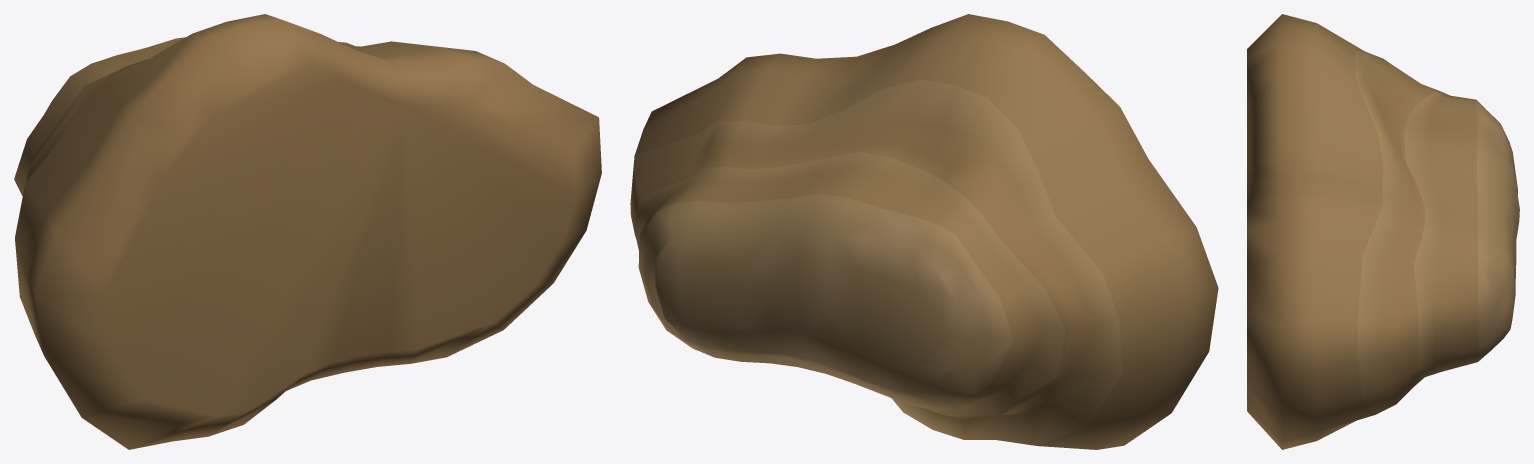
Rendered from SandHill.001.glb.
3 renders of one model, left to right at view 1: azimuth 30°, elevation 25°; view 2: azimuth 150°, elevation 25°; view 3: azimuth 270°, elevation 25°, orthographic. The views are drawn at different scales.
Visible parts, largest first — view 1: SandHill.001; view 2: SandHill.001; view 3: SandHill.001.
Part boxes in pixels (x1,y1,x2,y2): SandHill.001: (14,14,601,449); SandHill.001: (630,14,1218,449); SandHill.001: (1247,14,1519,449).
Bounding box in the file's own units: 8510 × 5739 × 4114.
